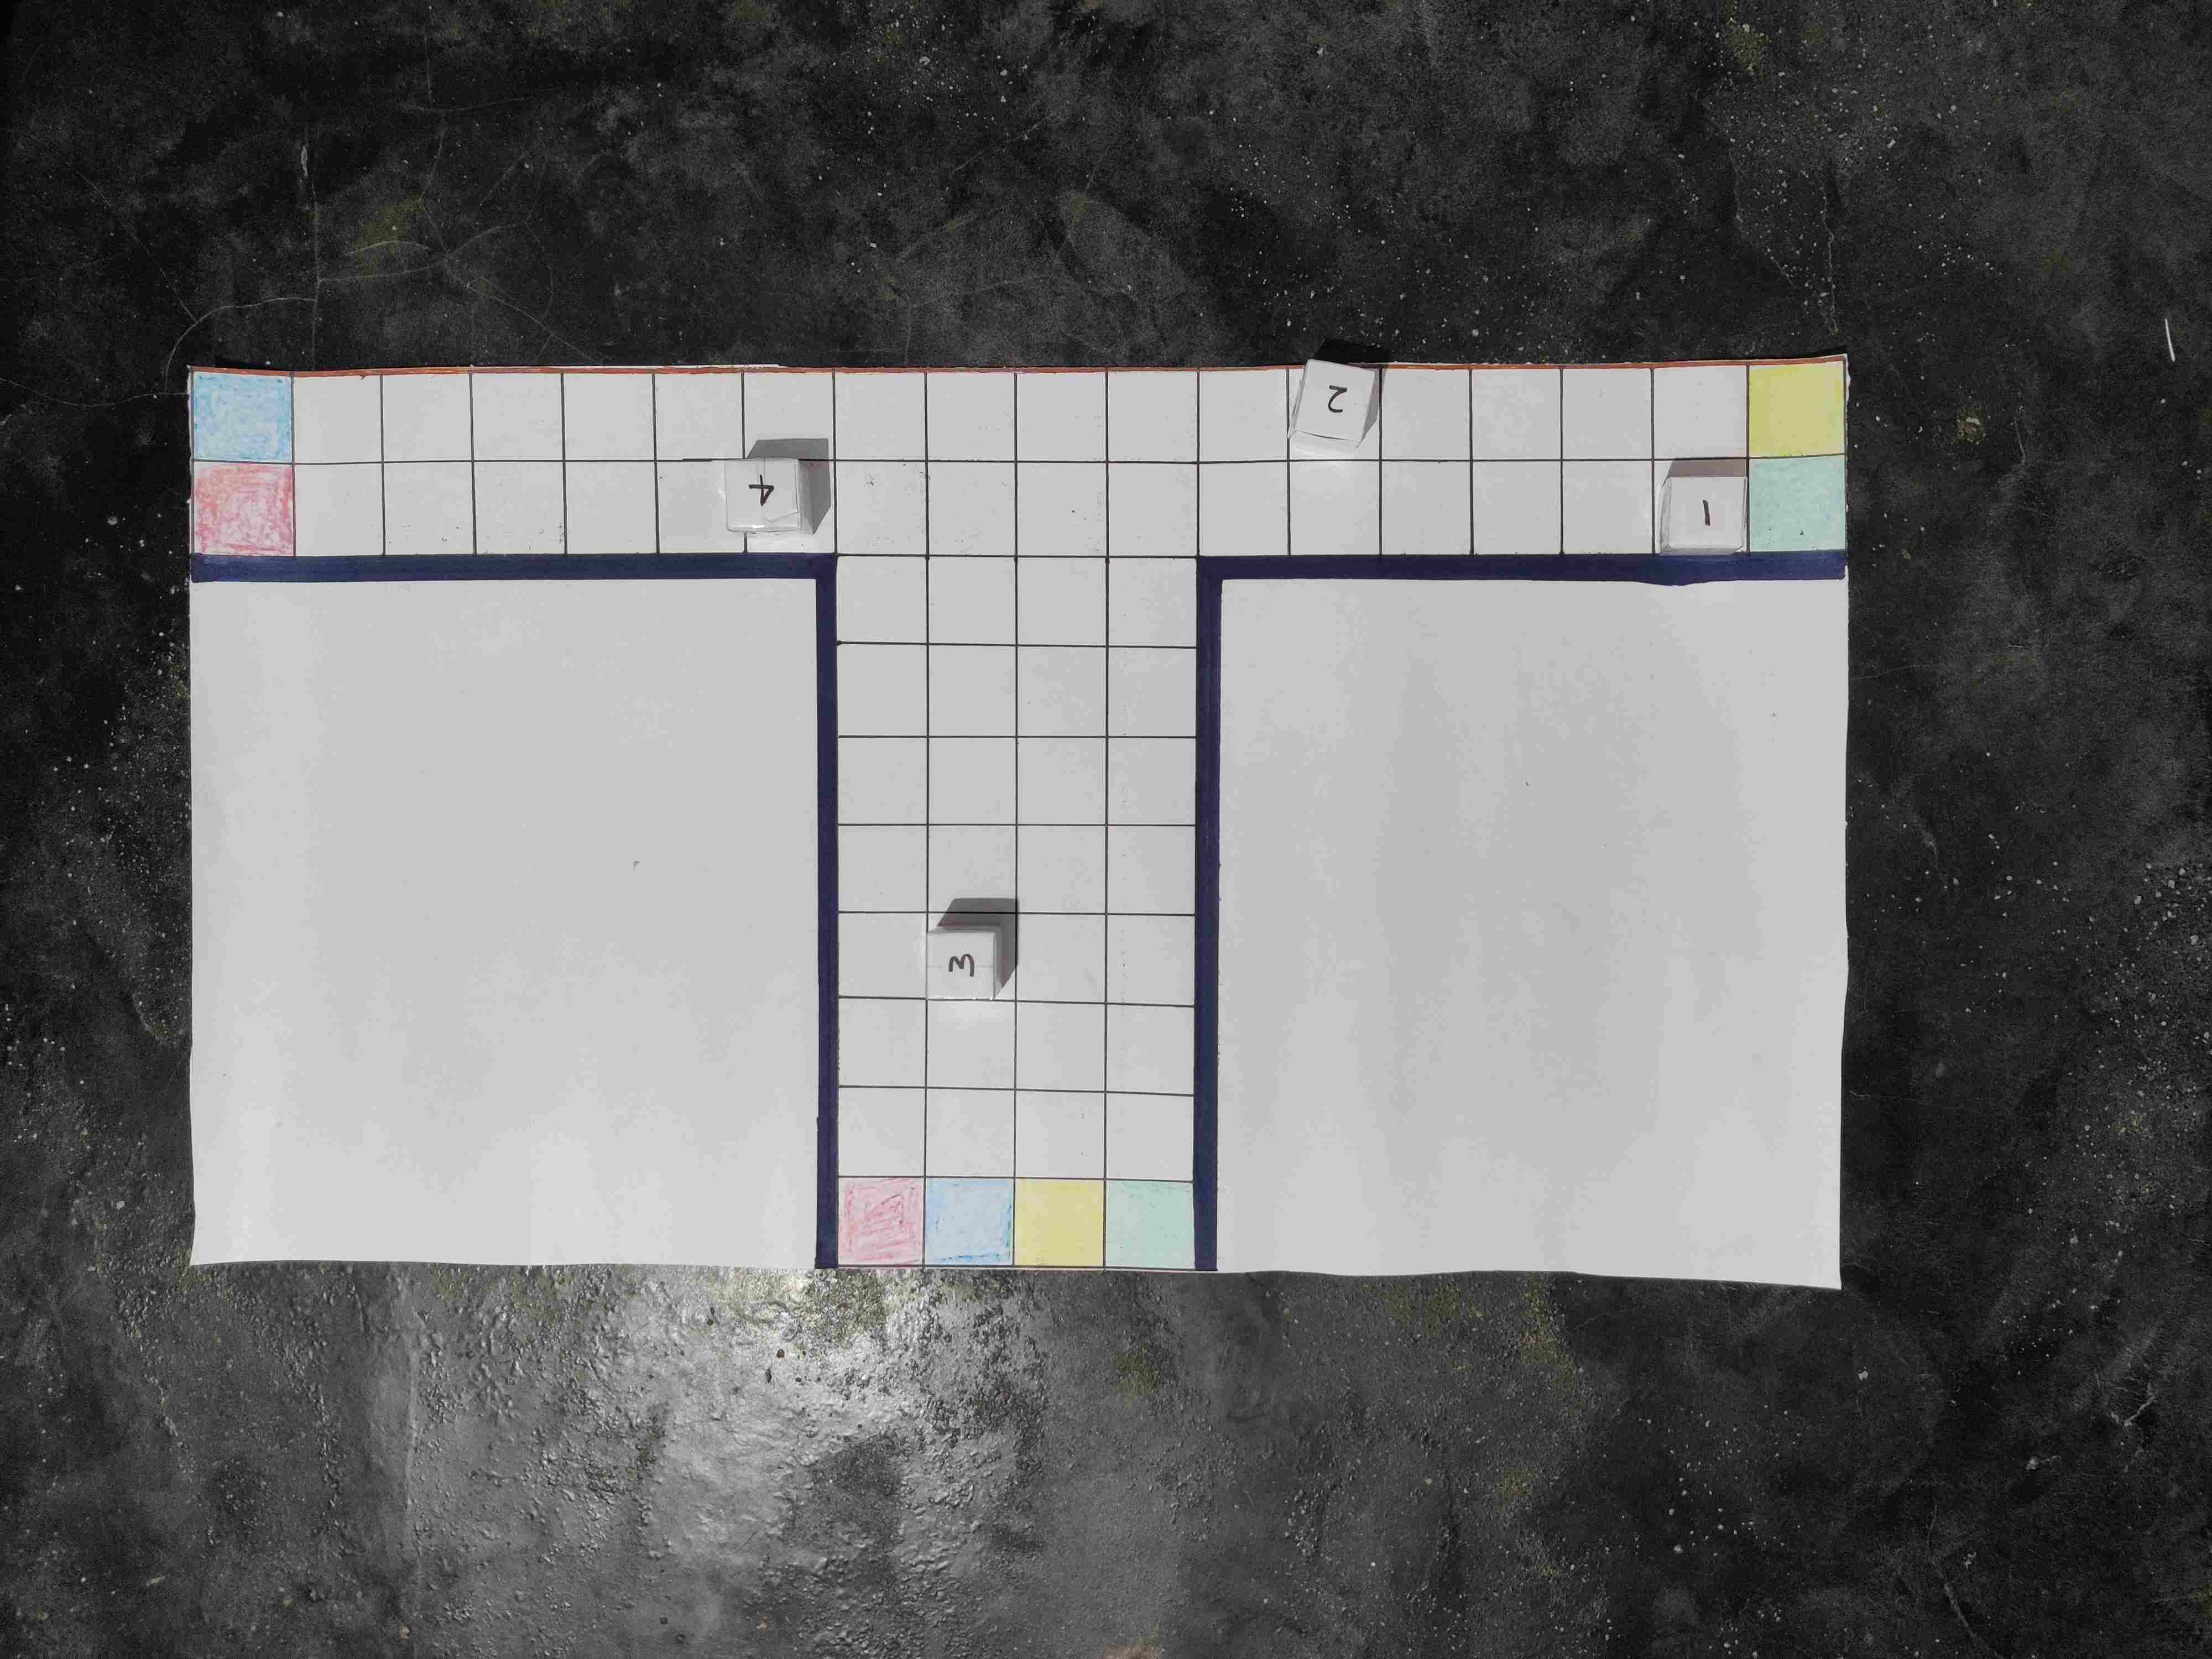arena: (185, 362, 1855, 1272)
bot: (1294, 352, 1372, 443), (728, 453, 801, 532), (1670, 474, 1743, 551), (928, 932, 998, 1000)
